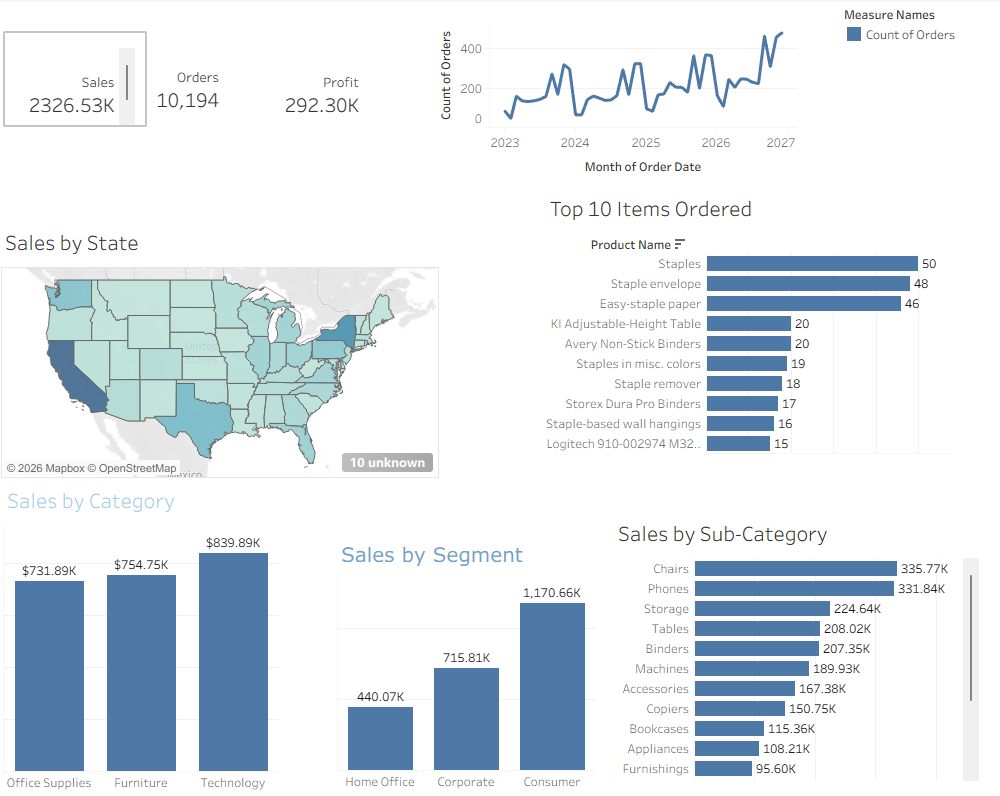

This screenshot's page, from the dashboard's own definition file:
{"tool":"tableau","page":{"name":"Dashboard 1","canvas":[1000,800],"ordinal":0},"visuals":[{"type":"legend","title":"Sheet 8","param":"[federated.1hg276a0bcklfn161gw4u1f1wiz8].[:Measure Names]","box":[840,0,160,46]},{"type":"worksheet","title":"Sheet 8","mark":"Automatic","rows":["Orders_B962AAD18EA24D5E98FDFB810A3BC1A4"],"cols":["Order Date"],"box":[430,9,367,171]},{"type":"worksheet","title":"Sheet 5","mark":"Automatic","box":[5,31,140,92]},{"type":"worksheet","title":"Sheet 9","mark":"Automatic","box":[249,33,153,106]},{"type":"worksheet","title":"Sheet 11","mark":"Automatic","box":[143,51,143,75]},{"type":"worksheet","title":"Sheet 3","mark":"Automatic","rows":["Product Name"],"cols":["Orders_B962AAD18EA24D5E98FDFB810A3BC1A4"],"box":[546,188,406,298]},{"type":"worksheet","title":"Sheet 4","mark":"Multipolygon","box":[1,222,438,254]},{"type":"worksheet","title":"Sheet 1","mark":"Automatic","rows":["Sales"],"cols":["Category"],"box":[3,480,276,310]},{"type":"worksheet","title":"Sheet 6","mark":"Automatic","rows":["Sub-Category"],"cols":["Sales"],"box":[614,513,365,266]},{"type":"worksheet","title":"Sheet 2","mark":"Automatic","rows":["Sales"],"cols":["Segment"],"box":[337,536,259,253]}]}

Visuals, with their boxes in screenshot pixels (x1, y1, x2, y2), scaled from the page's 1000x800 canvas onto the 1000x796 screenshot:
"Sheet 8" legend: Rect(840, 0, 999, 46)
"Sheet 8" worksheet: Rect(430, 9, 797, 179)
"Sheet 5" worksheet: Rect(5, 31, 145, 122)
"Sheet 9" worksheet: Rect(249, 33, 402, 138)
"Sheet 11" worksheet: Rect(143, 51, 286, 125)
"Sheet 3" worksheet: Rect(546, 187, 952, 484)
"Sheet 4" worksheet (Multipolygon marks): Rect(1, 221, 439, 474)
"Sheet 1" worksheet: Rect(3, 478, 279, 786)
"Sheet 6" worksheet: Rect(614, 510, 979, 775)
"Sheet 2" worksheet: Rect(337, 533, 596, 785)
